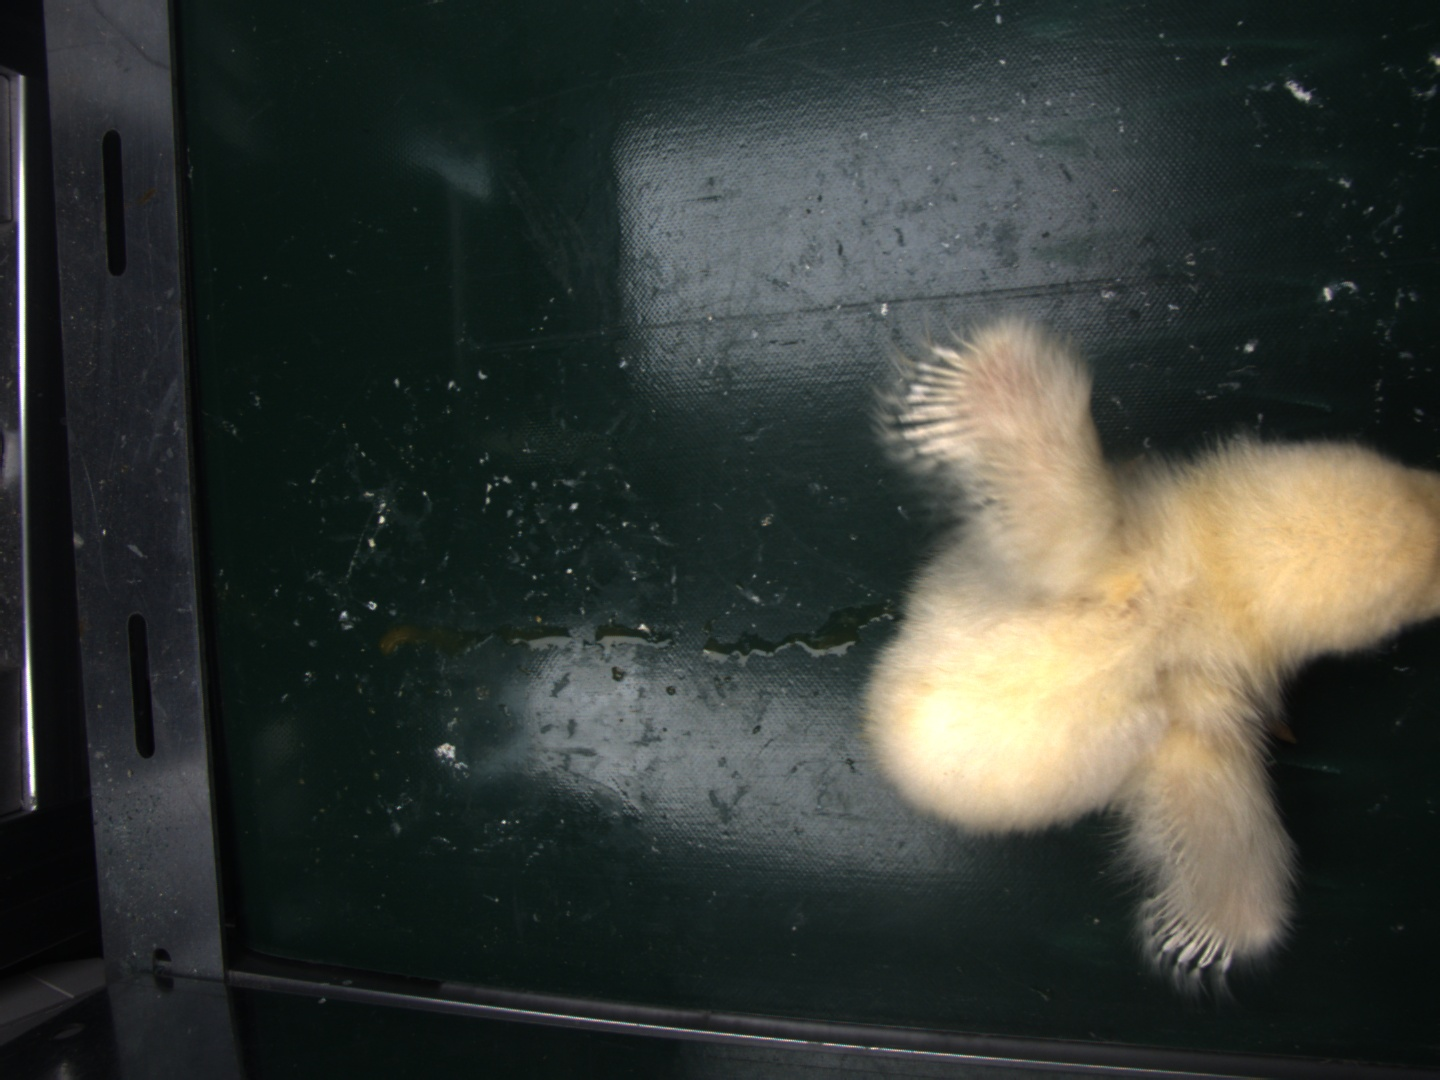male: (1151, 891, 1233, 979)
